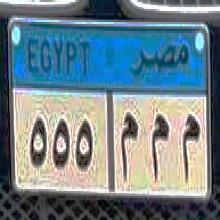5: (50, 116, 72, 178), (27, 115, 49, 176), (74, 116, 96, 174)
meem: (116, 104, 139, 185), (178, 111, 201, 186), (148, 107, 171, 182)
